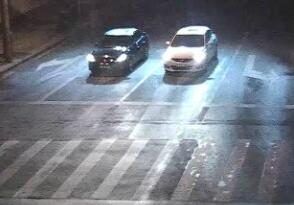car: (84, 25, 152, 79), (163, 25, 219, 78)
